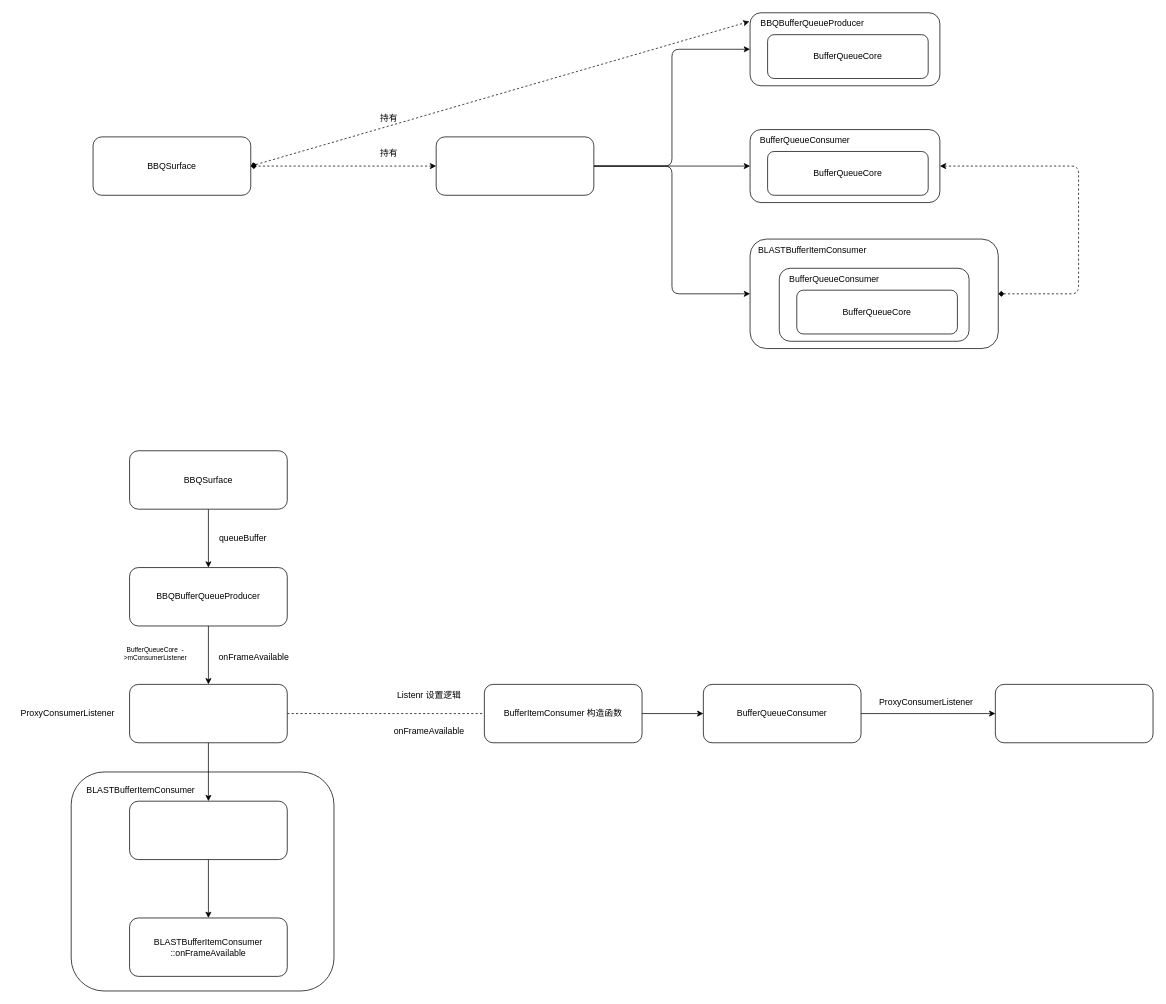
Image size: 1166x1004. Some labels were removed from this diagram. The shapes that lost their labels are listed below. From the top down, each one's centre as x and y in pixels, then its label:
At point 514,165: "BLASTBufferQueue".
At point 208,713: "IConsumerListener::onFrameAvailable".
At point 1074,713: "BufferQueueCore:: mConsumerListener".
At point 208,830: "ConsumerBase::onFrameAvailable".
